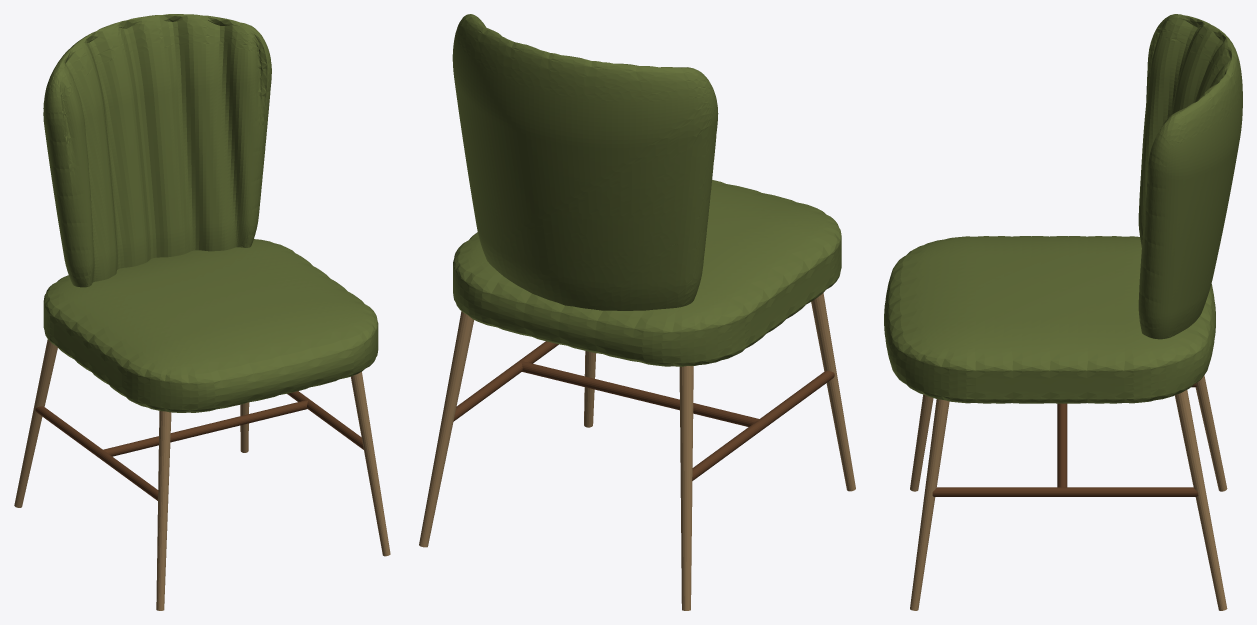
Rendered from leaf.glb.
The picture shows the model from 3 angles, left to right: view 1: azimuth 30°, elevation 25°; view 2: azimuth 150°, elevation 25°; view 3: azimuth 270°, elevation 25°; orthographic projection. The views are drawn at different scales.
Visible parts, largest first — view 1: back, seat, leg0, leg1, stretcher_m, leg2, stretcher_l, stretcher_r; view 2: back, seat, leg2, leg3, stretcher_m, leg0, stretcher_l, stretcher_r, leg1; view 3: seat, back, stretcher_r, leg3, leg1, leg2, leg0, stretcher_m.
Boxes of the visible parts, x1,y1,x2,y2 form: back: [43, 14, 271, 287]; seat: [43, 239, 378, 412]; leg0: [156, 411, 171, 610]; leg1: [351, 372, 390, 556]; stretcher_m: [102, 400, 308, 456]; leg2: [14, 339, 57, 507]; stretcher_l: [35, 406, 158, 500]; stretcher_r: [287, 391, 363, 449]; back: [452, 14, 718, 310]; seat: [453, 180, 841, 366]; leg2: [679, 366, 693, 610]; leg3: [419, 311, 473, 547]; stretcher_m: [521, 361, 760, 426]; leg0: [811, 293, 855, 491]; stretcher_l: [692, 370, 834, 480]; stretcher_r: [453, 341, 558, 421]; leg1: [584, 351, 596, 427]; seat: [884, 236, 1215, 403]; back: [1138, 14, 1242, 339]; stretcher_r: [932, 487, 1198, 496]; leg3: [1175, 390, 1227, 610]; leg1: [910, 399, 949, 610]; leg2: [1195, 375, 1227, 491]; leg0: [910, 394, 933, 491]; stretcher_m: [1057, 403, 1067, 487].
Size of the model in its own units: 0.501 by 0.8856 by 0.5811.
